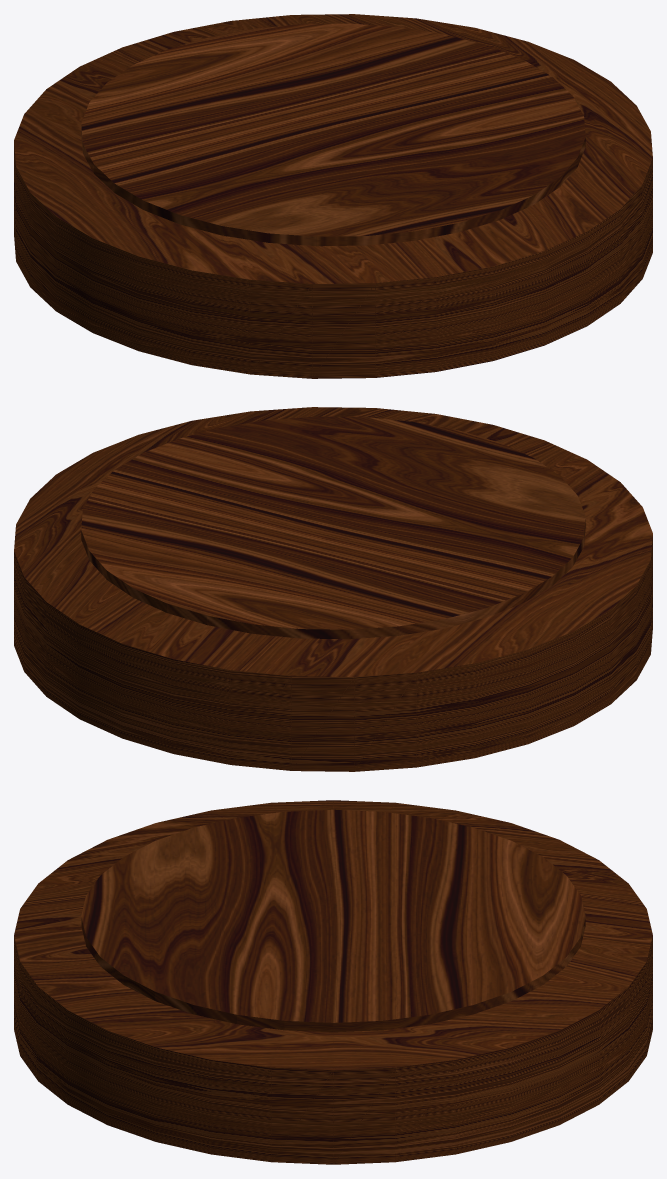
The model's file is Wheel1.FBX.
3 views of the same model, one above another, from view 1: azimuth 30°, elevation 25°; view 2: azimuth 150°, elevation 25°; view 3: azimuth 270°, elevation 25° (orthographic).
Visible parts, largest first — view 1: Wheel1; view 2: Wheel1; view 3: Wheel1.
Boxes of the visible parts, left/top/right/bottom form: Wheel1: left=14, top=14, right=652, bottom=378; Wheel1: left=14, top=407, right=652, bottom=771; Wheel1: left=14, top=800, right=652, bottom=1164.
Size of the model in its own units: 53.97 by 10.57 by 53.97.
2 materials, 2 textured.
